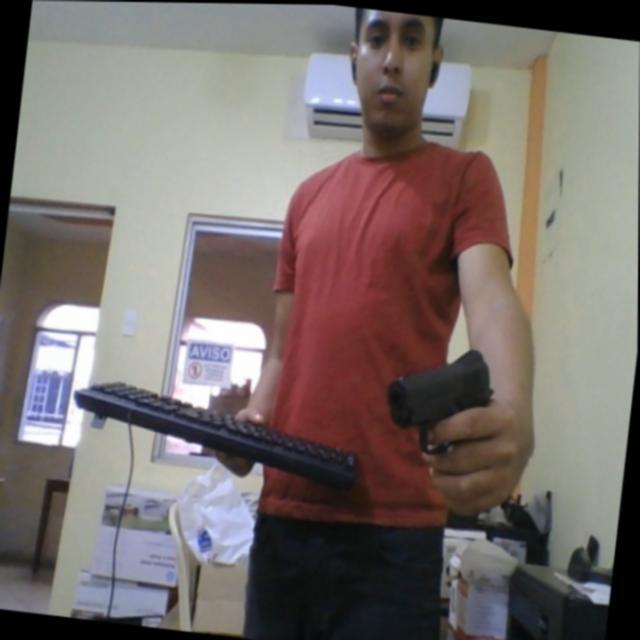weapon: (379, 337, 498, 462)
